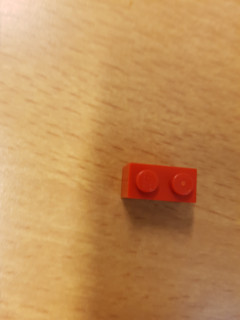1x2 red: (122, 163, 199, 206)
